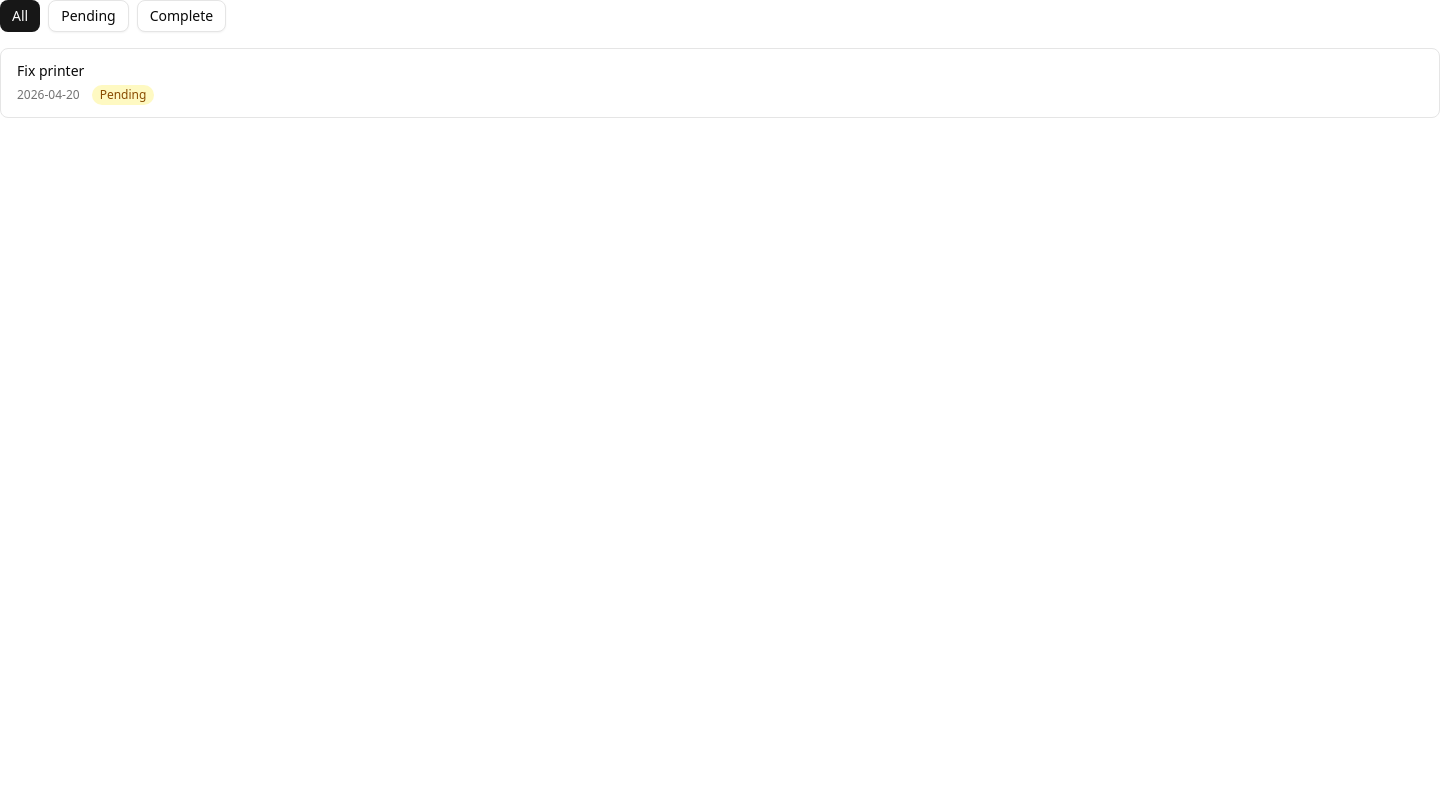
Test case: AC-4: Modal renders without error when task has no description › AC-4: modal opens without crashing when task has no description
Click the text "Fix printer": (51, 70) [17,61,84,80]
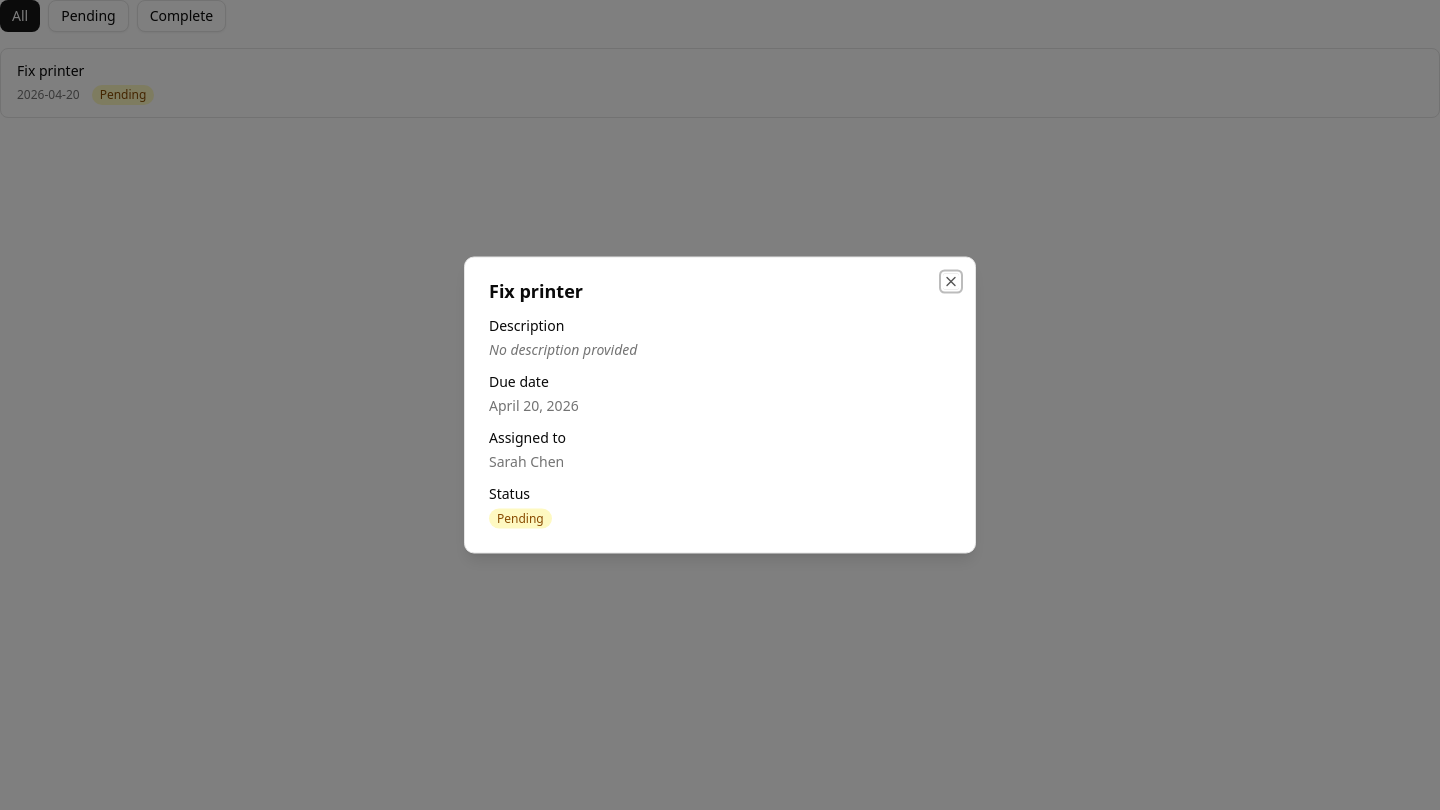
expect the dialog is shown: met, box [464,256,976,554]
